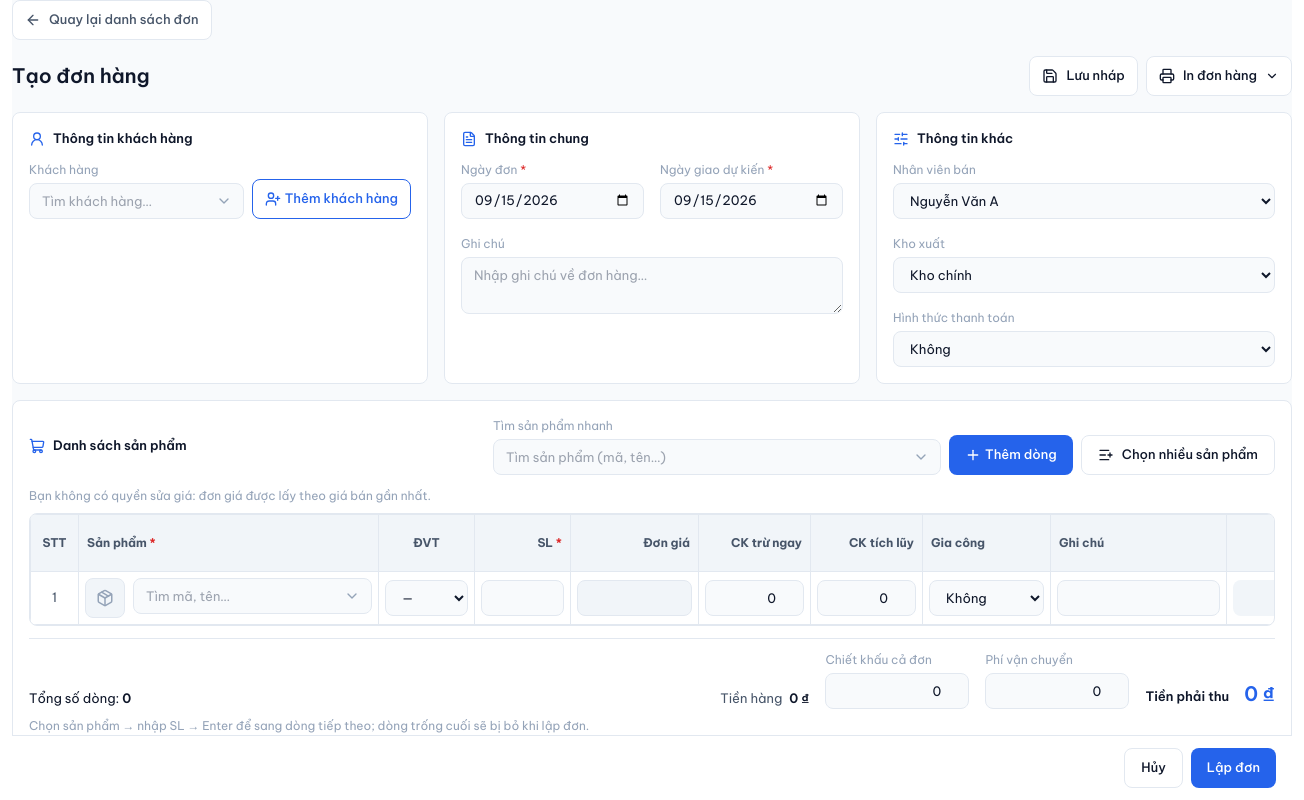
SaleOrderForm (/sales/orders/new) › thiếu quyền sửa giá: ô đơn giá chỉ đọc và luôn bằng giá gợi ý
Type "dat" into the dropdown labelled "Khách hàng" at (136, 200), box x1=29 y1=182 x2=244 y2=218
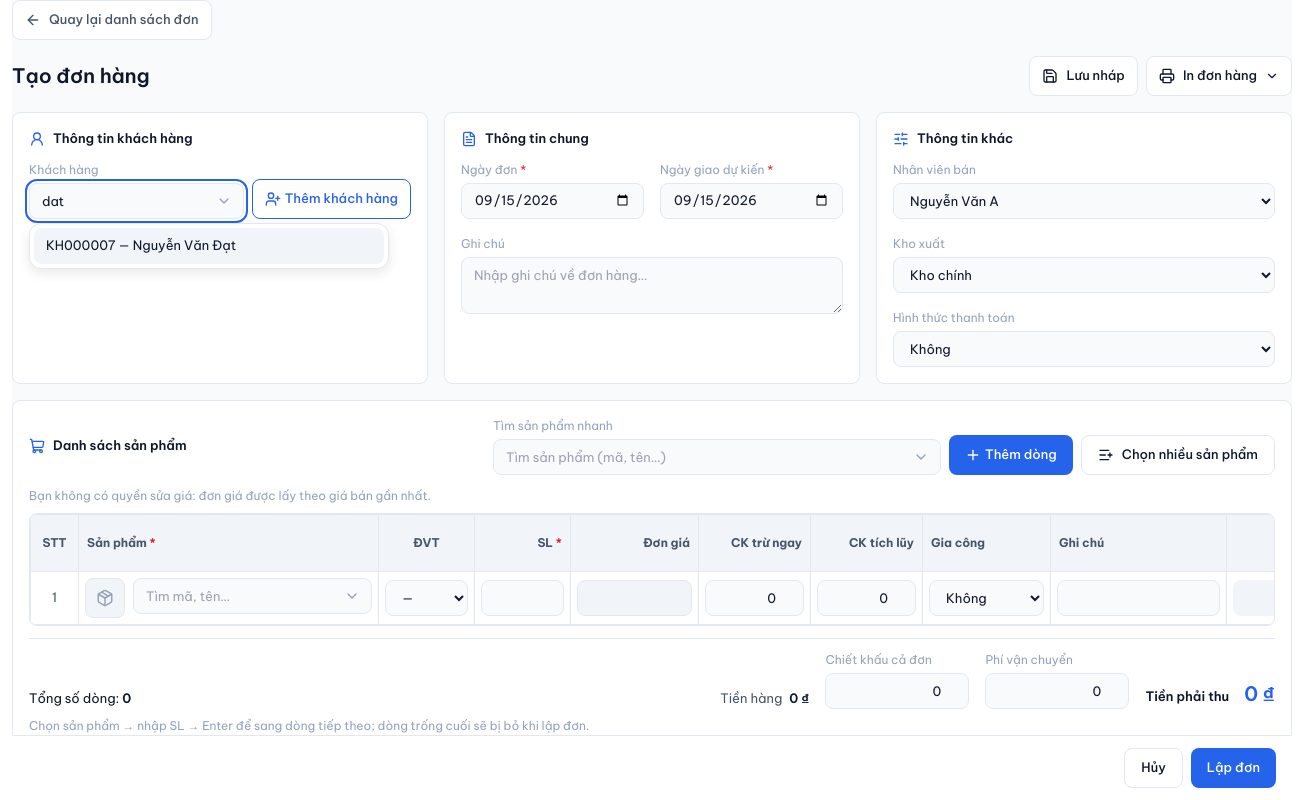
Click the option "KH000007 — Nguyễn Văn Đạt" at (209, 246), box x1=34 y1=228 x2=384 y2=264
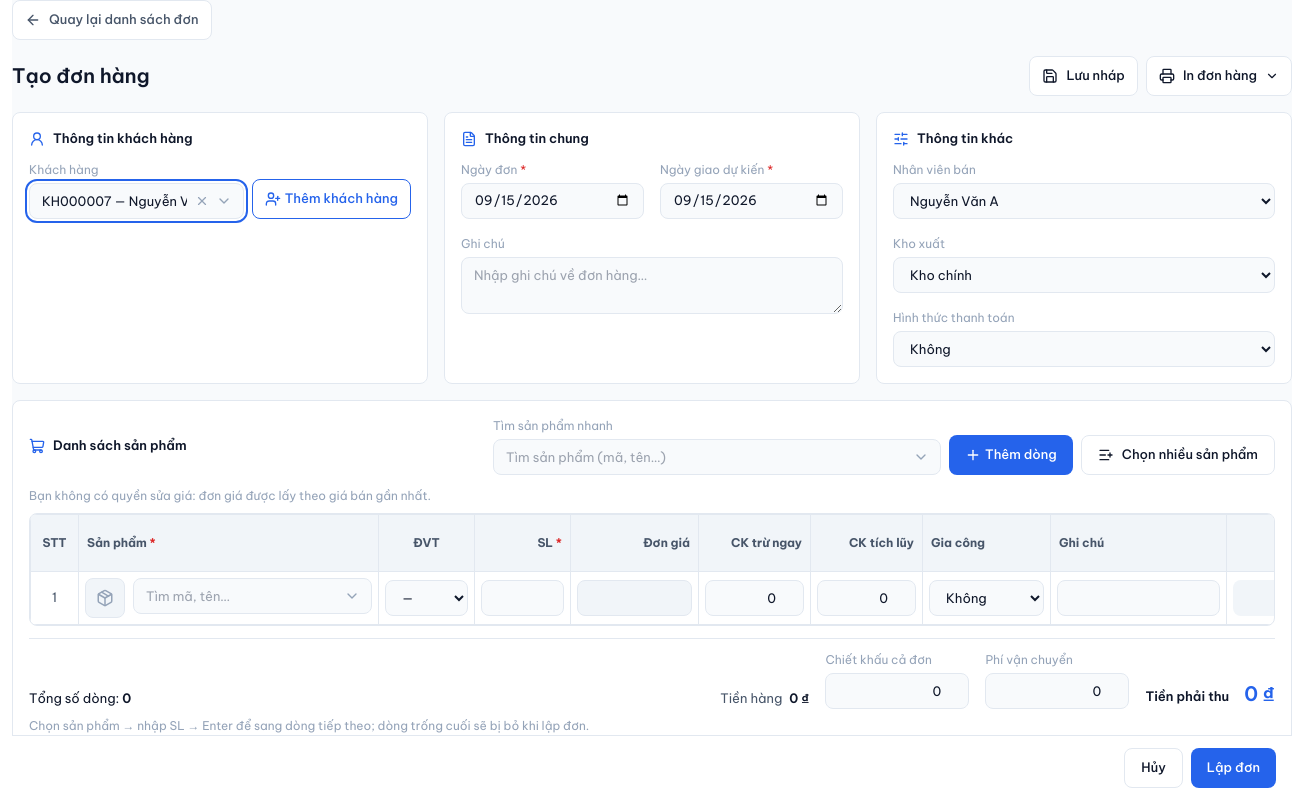
Type "ton" into the dropdown named "Sản phẩm dòng 1" at (252, 596), box x1=133 y1=578 x2=372 y2=614
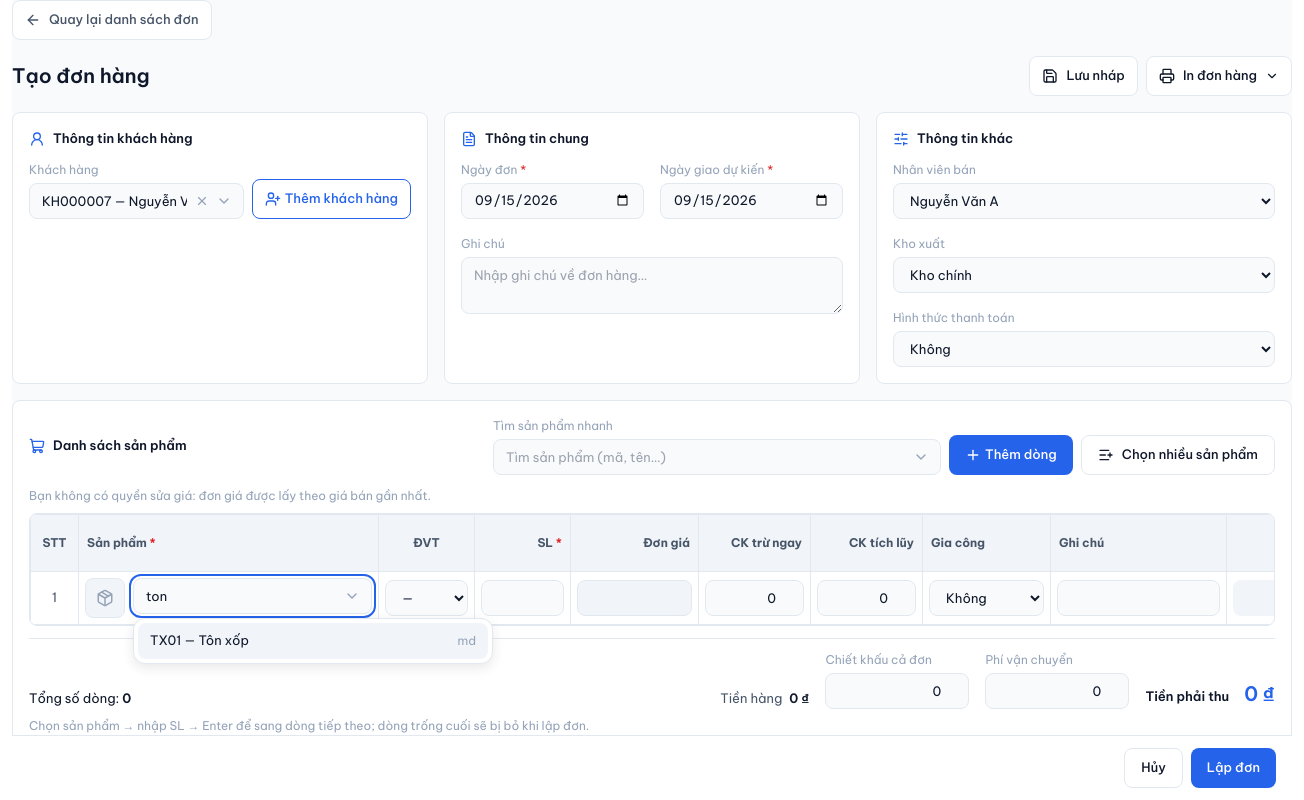
Click the option "TX01 — Tôn xốp md" at (199, 640), box x1=138 y1=622 x2=488 y2=658
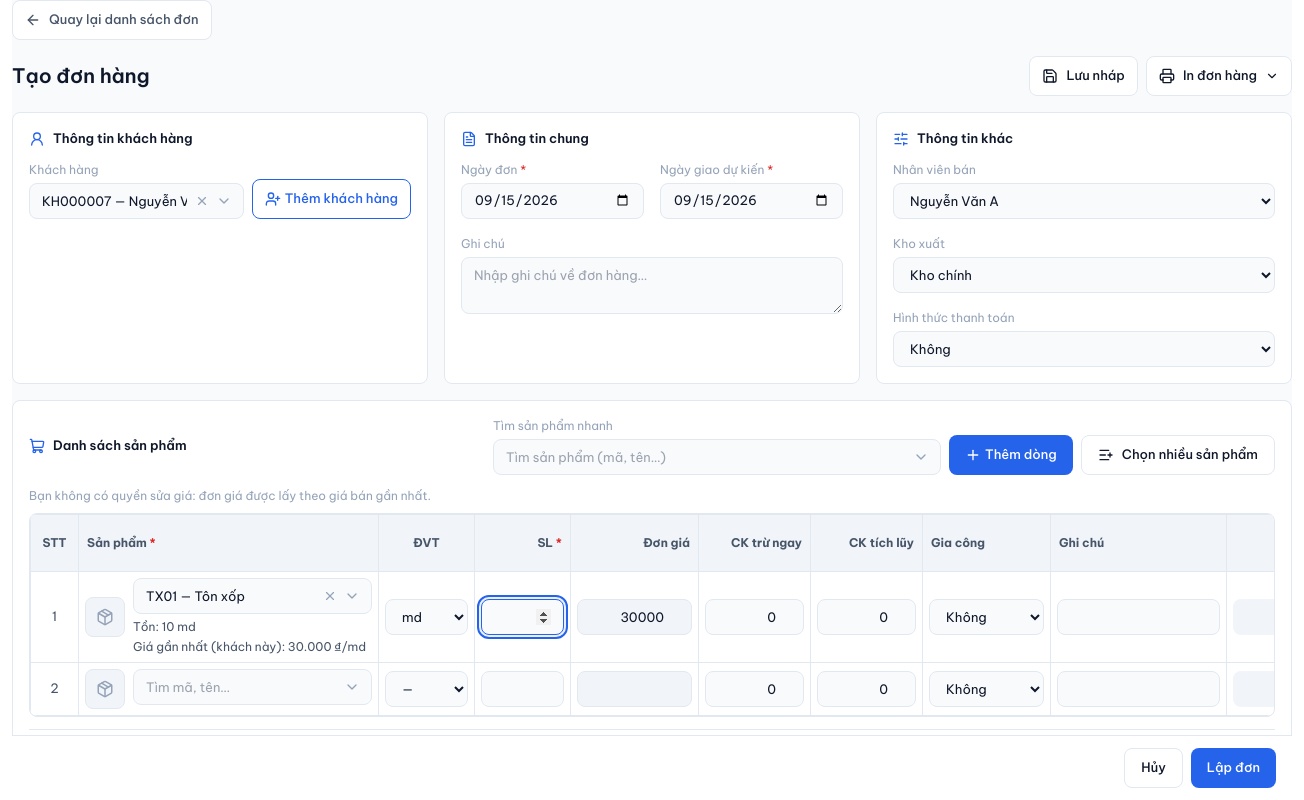
Expected: the text "không có quyền sửa giá" is shown, x1=29 y1=488 x2=431 y2=502
Result: the number field named "Đơn giá dòng 1" holds "30000" at x1=577 y1=598 x2=692 y2=634
